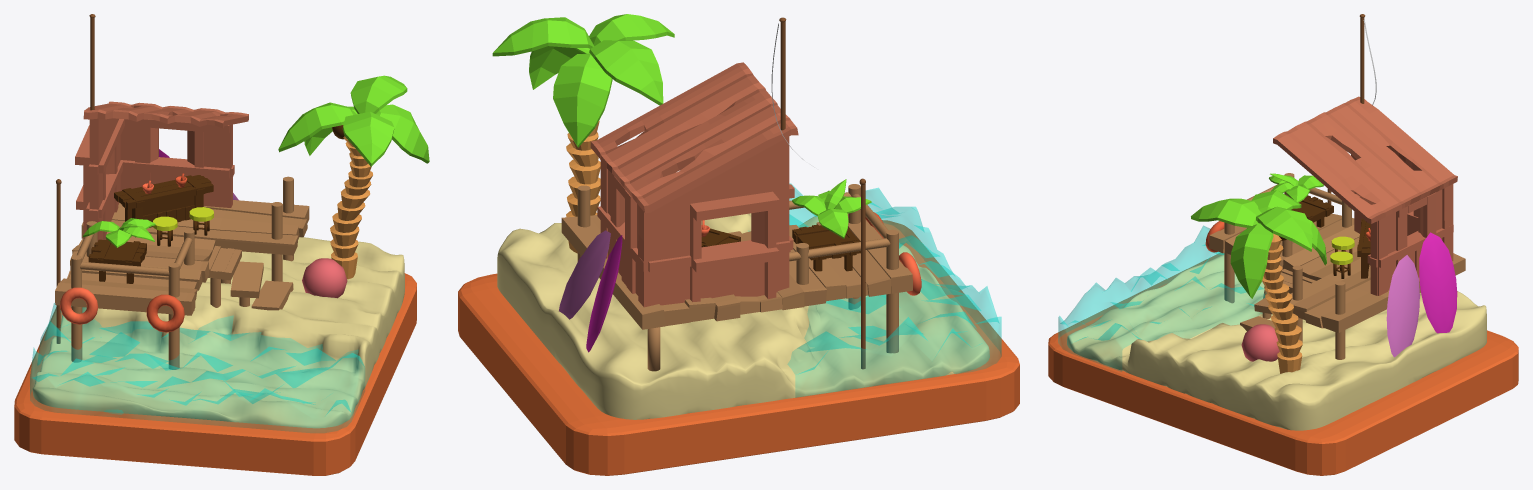
Rendered from beach_room.glb.
3 renders of one model, left to right at view 1: azimuth 30°, elevation 25°; view 2: azimuth 150°, elevation 25°; view 3: azimuth 270°, elevation 25°, orthographic. The views are drawn at different scales.
Visible parts, largest first — view 1: Roundcube, Roundcube.001, Roundcube.002, Cylinder.011, Cube.004, Sphere.006, Cylinder.002, Cube.001, Sphere.009, Cube, Sphere.013, Torus.001 (+3 smaller); view 2: Roundcube, Roundcube.002, Cube.004, Roundcube.001, Cylinder.011, Sphere.006, Plane.002, Cylinder.002, Sphere.013, Plane, Cube, Cylinder.001 (+2 smaller); view 3: Roundcube, Roundcube.002, Cube.004, Roundcube.001, Cylinder.011, Sphere.006, Plane, Cylinder.002, Plane.002, Sphere.009, Sphere.013, Cube (+1 smaller).
Boxes of the visible parts, x1,y1,x2,y2 form: Roundcube: (32,237,404,428); Roundcube.001: (30,303,364,432); Roundcube.002: (14,273,416,475); Cylinder.011: (55,176,309,369); Cube.004: (75,101,248,241); Sphere.006: (278,75,429,166); Cylinder.002: (330,136,372,279); Cube.001: (114,175,213,237); Sphere.009: (302,258,347,298); Cube: (88,239,146,283); Sphere.013: (83,218,155,247); Torus.001: (146,294,184,332); Roundcube: (497,213,989,419); Roundcube.002: (458,220,1019,475); Cube.004: (590,62,798,307); Roundcube.001: (788,183,1001,397); Cylinder.011: (561,184,912,353); Sphere.006: (492,14,674,147); Plane.002: (559,230,610,319); Cylinder.002: (566,121,600,253); Sphere.013: (792,179,871,238); Plane: (586,235,622,352); Cube: (792,224,860,271); Cylinder.001: (859,178,865,369); Roundcube: (1067,255,1486,430); Roundcube.002: (1048,253,1518,475); Cube.004: (1273,96,1457,295); Roundcube.001: (1058,225,1264,371); Cylinder.011: (1209,173,1465,359); Sphere.006: (1191,190,1326,298); Plane: (1419,232,1457,333); Cylinder.002: (1262,233,1302,373); Plane.002: (1386,255,1419,357); Sphere.009: (1241,324,1279,361); Sphere.013: (1269,173,1323,202); Cube: (1291,195,1333,227).
Size of the model in its own units: 5.37 by 4.22 by 5.45.
